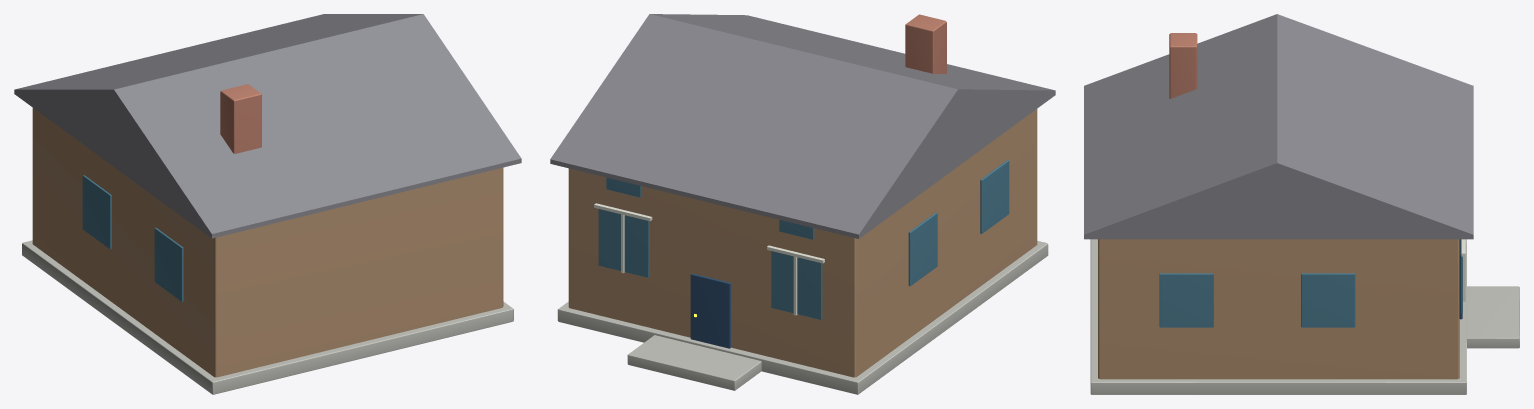
File: house.glb
The picture shows the model from 3 angles, left to right: view 1: azimuth 30°, elevation 25°; view 2: azimuth 150°, elevation 25°; view 3: azimuth 270°, elevation 25°; orthographic projection.
Visible parts, largest first — view 1: house_gable_roof, house_walls, house_foundation, house_chimney, house_side_window, house_side_window.001; view 2: house_gable_roof, house_walls, house_foundation, house_porch, house_front_window, house_front_window.001, house_front_door, house_chimney, house_side_window.001, house_side_window, house_upper_window.001, house_upper_window; view 3: house_gable_roof, house_walls, house_foundation, house_porch, house_side_window.002, house_side_window.003, house_chimney.
Boxes of the visible parts, x1,y1,x2,y2 form: house_gable_roof: (14, 14, 521, 238); house_walls: (32, 108, 503, 377); house_foundation: (22, 240, 513, 394); house_chimney: (220, 84, 261, 153); house_side_window: (154, 228, 183, 301); house_side_window.001: (82, 175, 111, 249); house_gable_roof: (550, 14, 1055, 238); house_walls: (568, 109, 1037, 377); house_foundation: (557, 240, 1048, 394); house_porch: (627, 335, 761, 390); house_front_window: (771, 251, 822, 319); house_front_window.001: (598, 209, 649, 277); house_front_door: (690, 273, 730, 348); house_chimney: (905, 14, 946, 73); house_side_window.001: (908, 212, 937, 286); house_side_window: (980, 160, 1009, 233); house_upper_window.001: (606, 177, 641, 197); house_upper_window: (779, 220, 814, 239); house_gable_roof: (1084, 14, 1473, 239); house_walls: (1098, 239, 1459, 379); house_foundation: (1090, 239, 1466, 394); house_porch: (1467, 286, 1519, 348); house_side_window.002: (1159, 273, 1213, 327); house_side_window.003: (1301, 273, 1355, 327); house_chimney: (1169, 33, 1197, 98).
Bounding box in the file's own units: 10.72 × 8.29 × 13.25.
